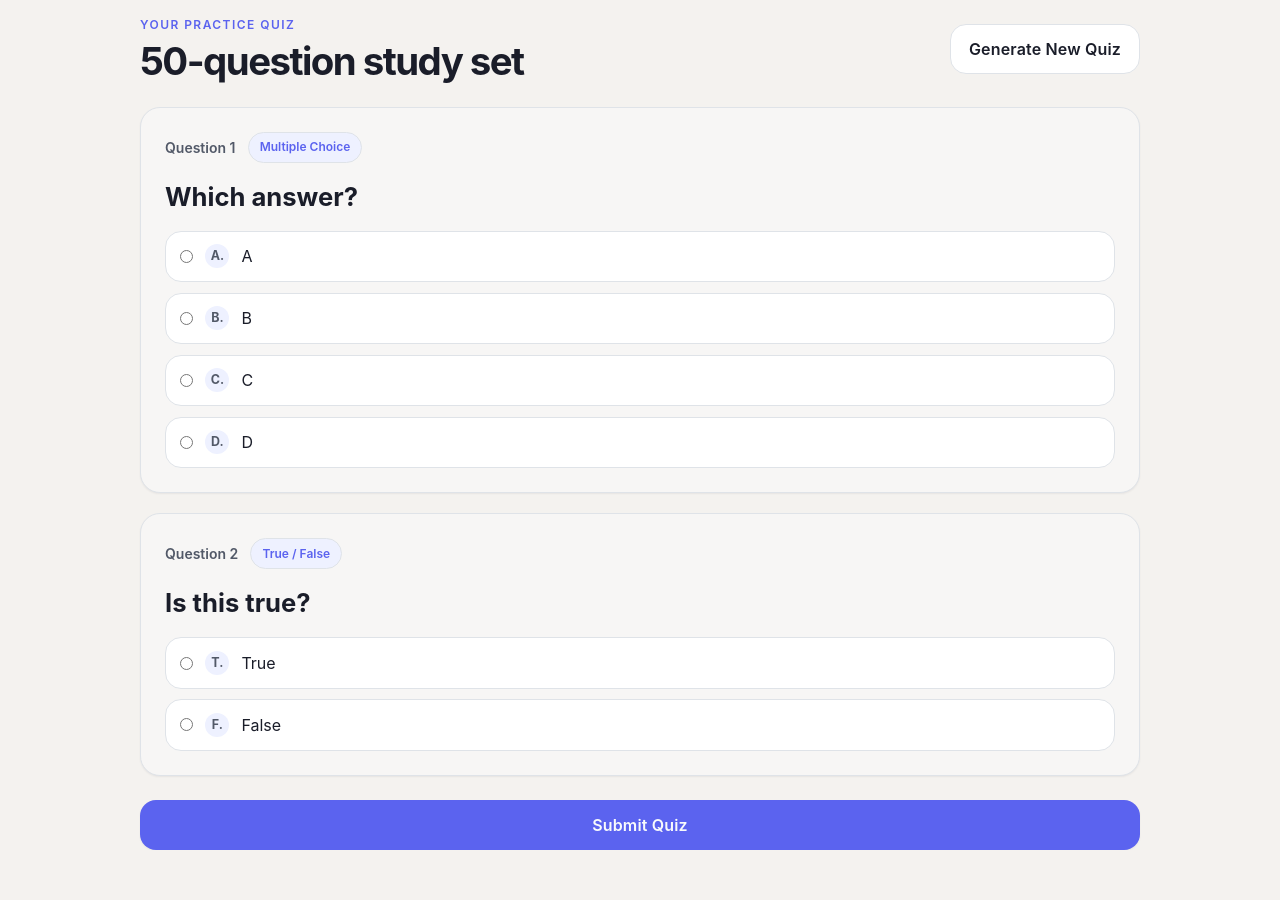
Scenario: Quiz UI › submits answers and displays score and review
Click the radio button labelled "B. B" at (187, 318), box left=180, top=312, right=193, bottom=325
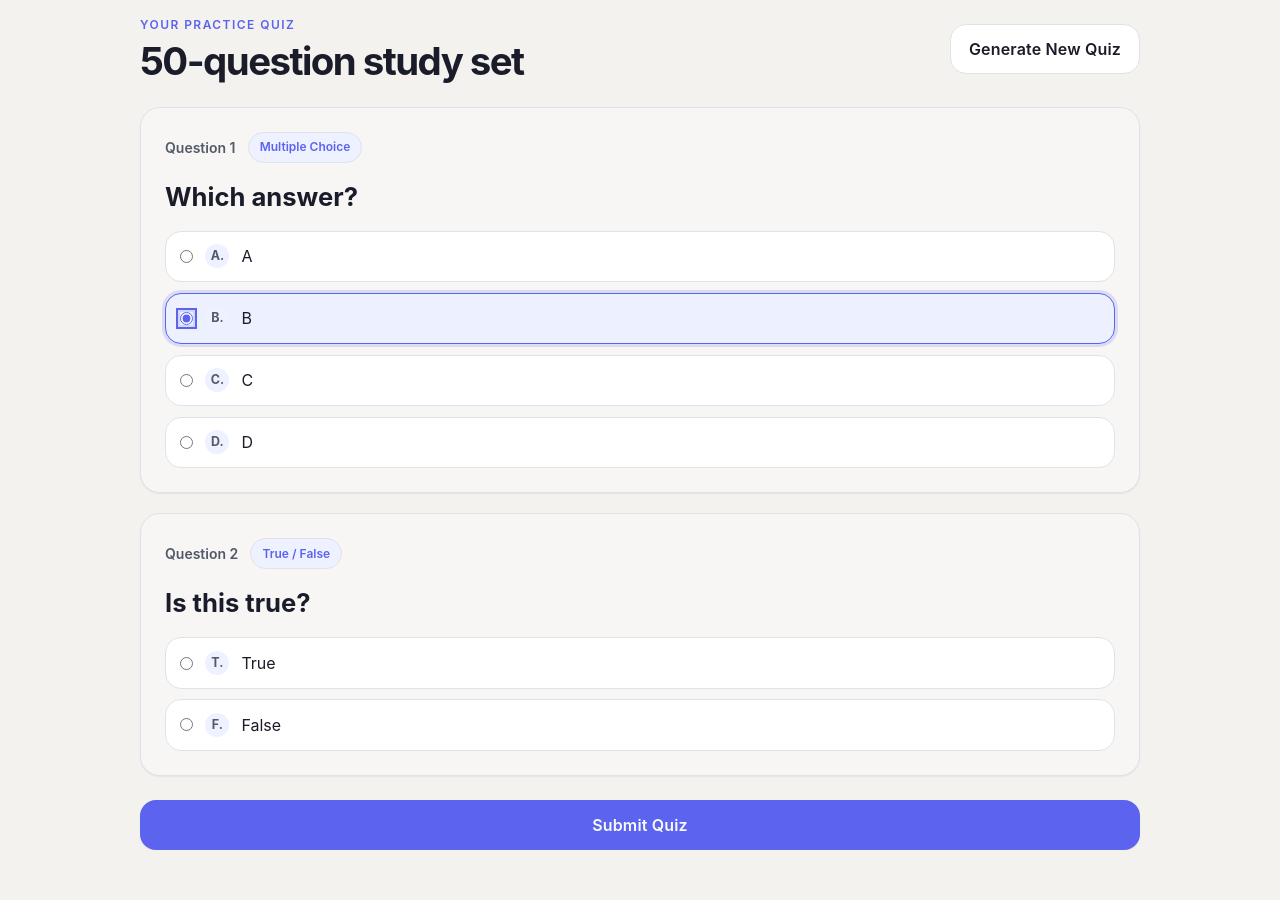
Click the button "Submit Quiz" at (640, 825), box left=140, top=800, right=1140, bottom=850
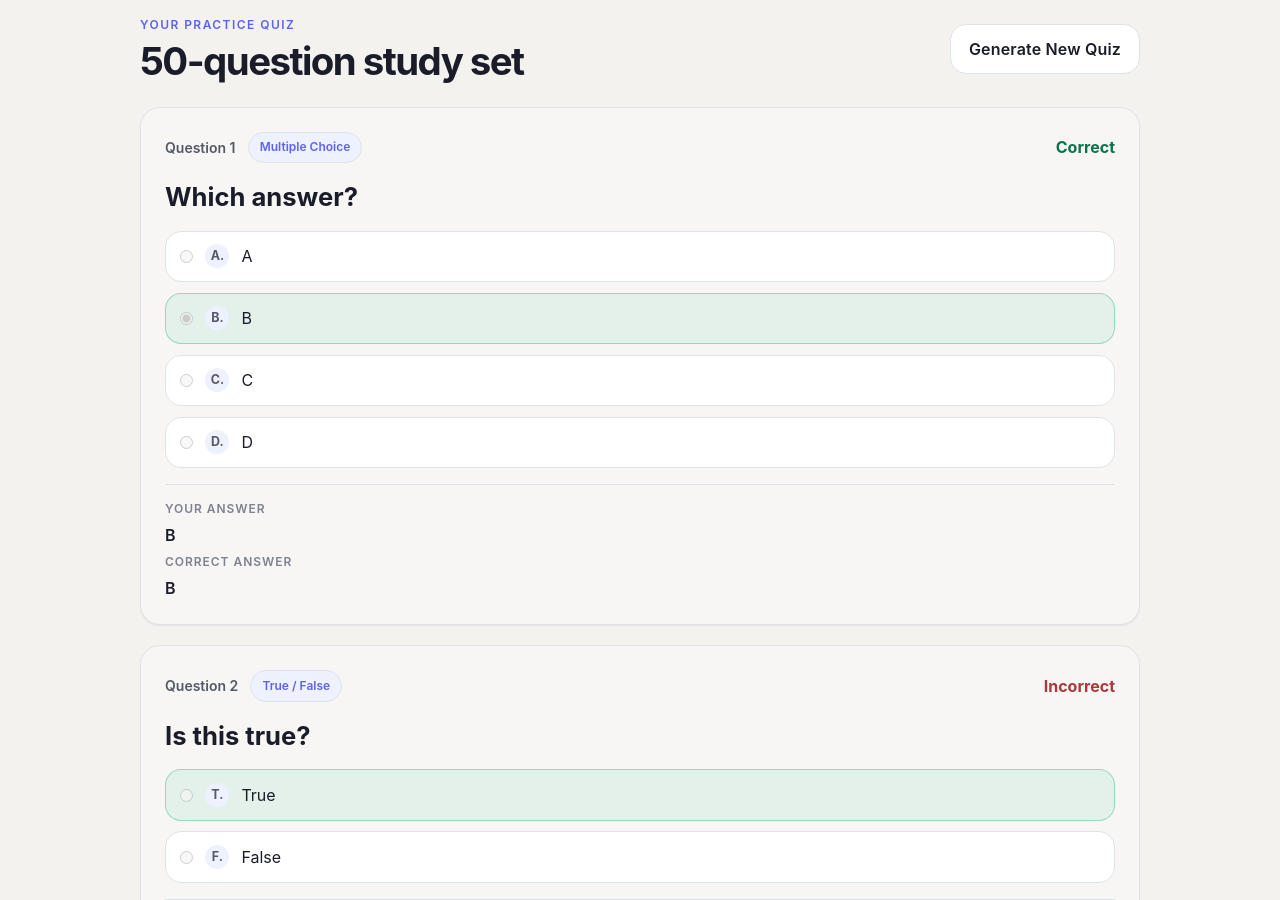
Expected: the text "Correct" is shown 3 times
Expected: the text "Correct answer" is shown, left=165, top=554, right=292, bottom=569
Expected: the radio button labelled "B. B" is disabled, left=180, top=312, right=193, bottom=325
